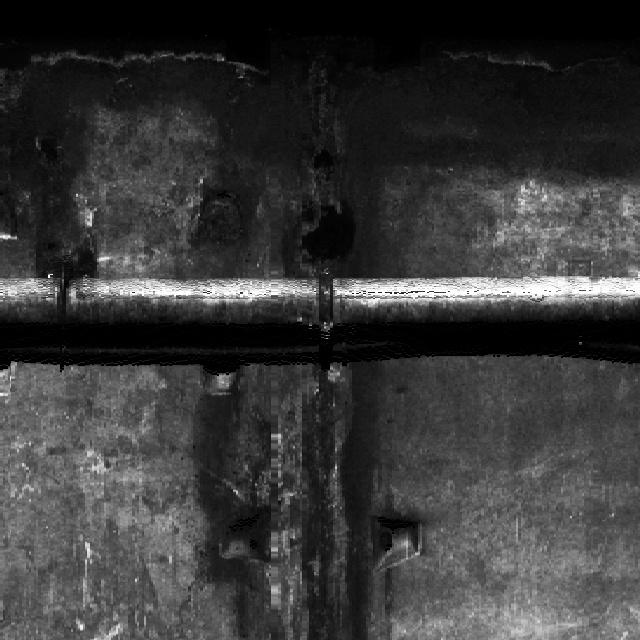leakage: (182, 355, 390, 639), (0, 0, 638, 90), (185, 101, 395, 290), (0, 102, 108, 271)
